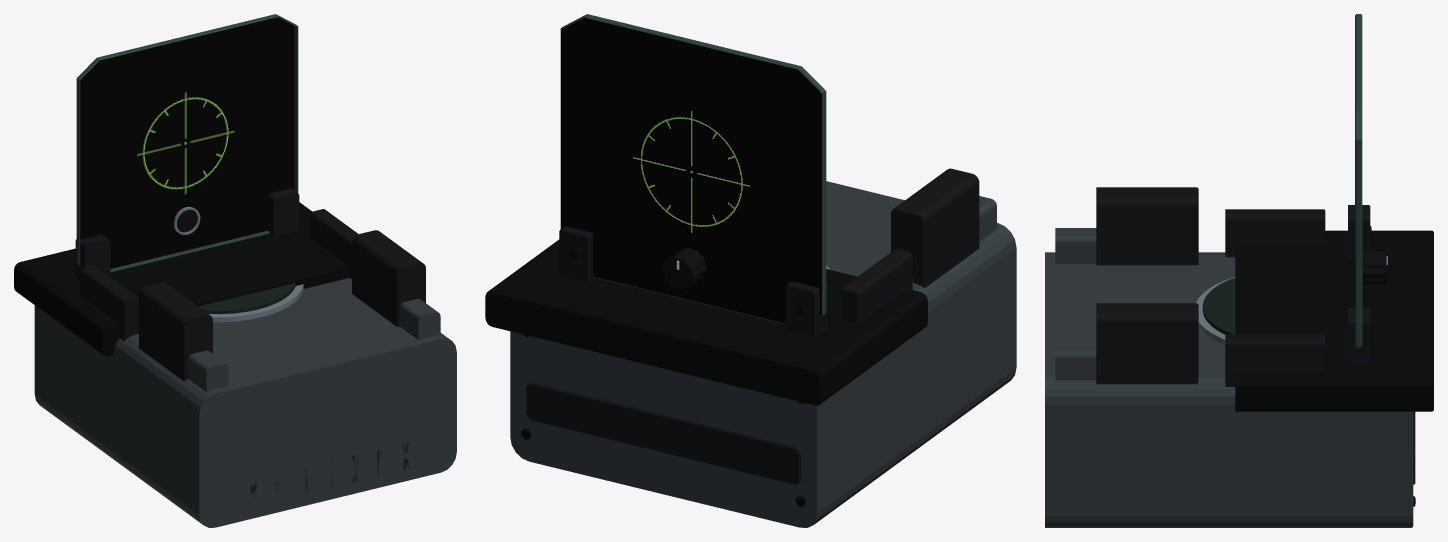
File: MFDStudio.obj
3 views of the same model, side by side, from view 1: azimuth 30°, elevation 25°; view 2: azimuth 150°, elevation 25°; view 3: azimuth 270°, elevation 25° (orthographic). The views are drawn at different scales.
Parts seen in each view (by area): view 1: MFDStudioBody, MFDStudioScreen, MFDStudioCombinerFrame, MFDStudioKnob0; view 2: MFDStudioBody, MFDStudioScreen, MFDStudioCombinerFrame, MFDStudioKnob0; view 3: MFDStudioBody, MFDStudioCombinerFrame, MFDStudioKnob0.
Part boxes in pixels (x1=…): MFDStudioBody: x1=14, y1=202, x2=456, y2=527; MFDStudioScreen: x1=80, y1=17, x2=294, y2=268; MFDStudioCombinerFrame: x1=75, y1=14, x2=299, y2=278; MFDStudioKnob0: x1=173, y1=206, x2=200, y2=234; MFDStudioBody: x1=485, y1=168, x2=1016, y2=527; MFDStudioScreen: x1=561, y1=17, x2=821, y2=323; MFDStudioCombinerFrame: x1=559, y1=14, x2=827, y2=336; MFDStudioKnob0: x1=663, y1=247, x2=706, y2=289; MFDStudioBody: x1=1045, y1=187, x2=1433, y2=527; MFDStudioCombinerFrame: x1=1348, y1=14, x2=1370, y2=362; MFDStudioKnob0: x1=1362, y1=252, x2=1387, y2=284.
Bounding box in the file's own units: 0.1764 × 0.2168 × 0.19.
12 materials, 1 textured.
